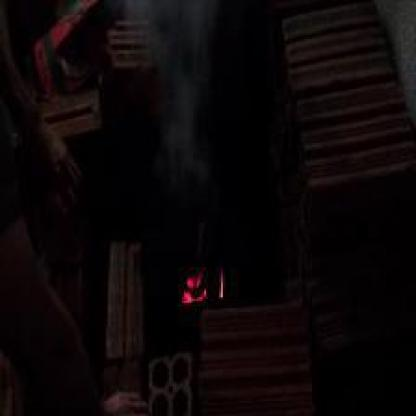fire: (163, 246, 217, 306)
